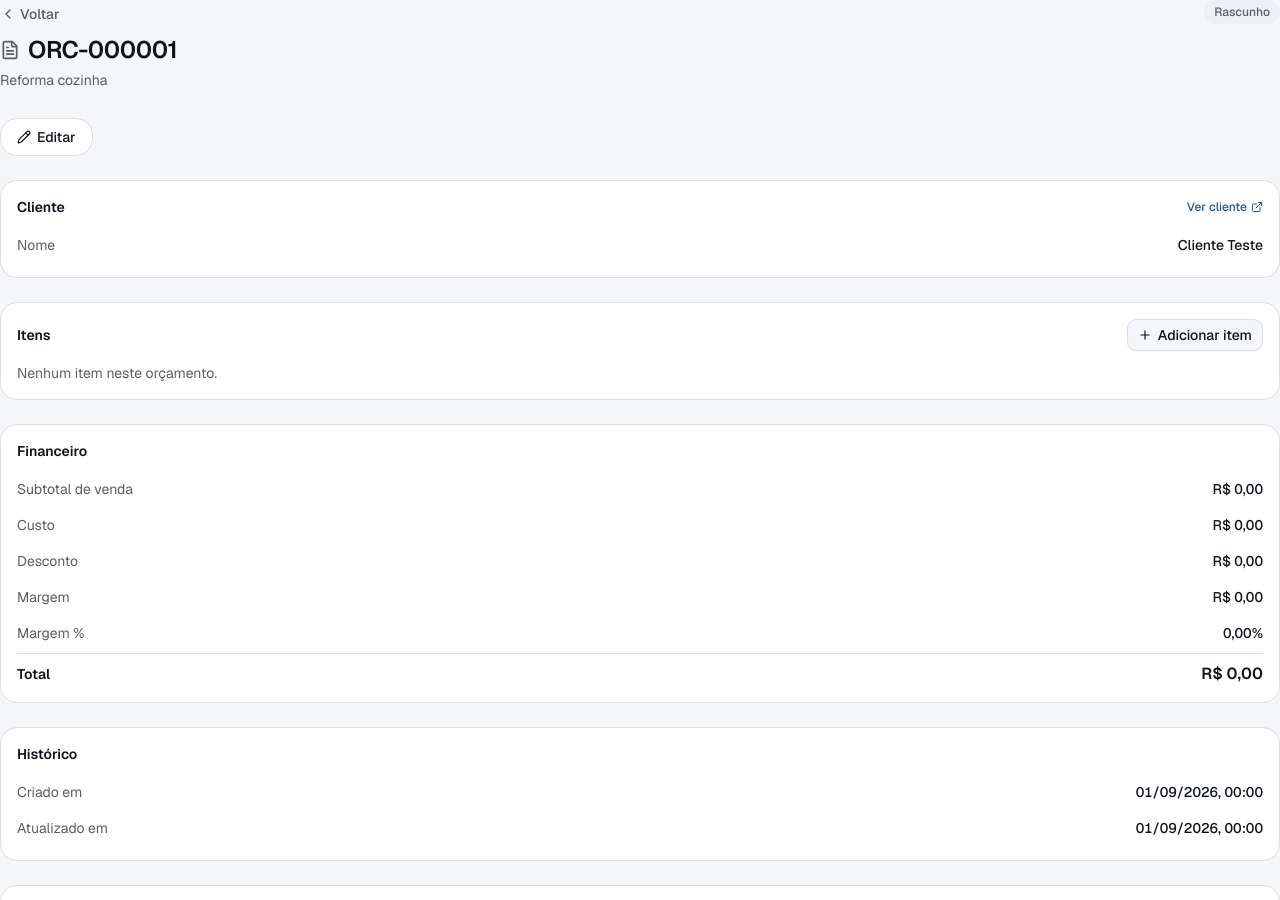
Test case: Budget item management › the add-item choice never offers a Calculadora option
The image size is (1280, 900).
Click the button "Adicionar item": click(1195, 335) [1127,319,1263,351]
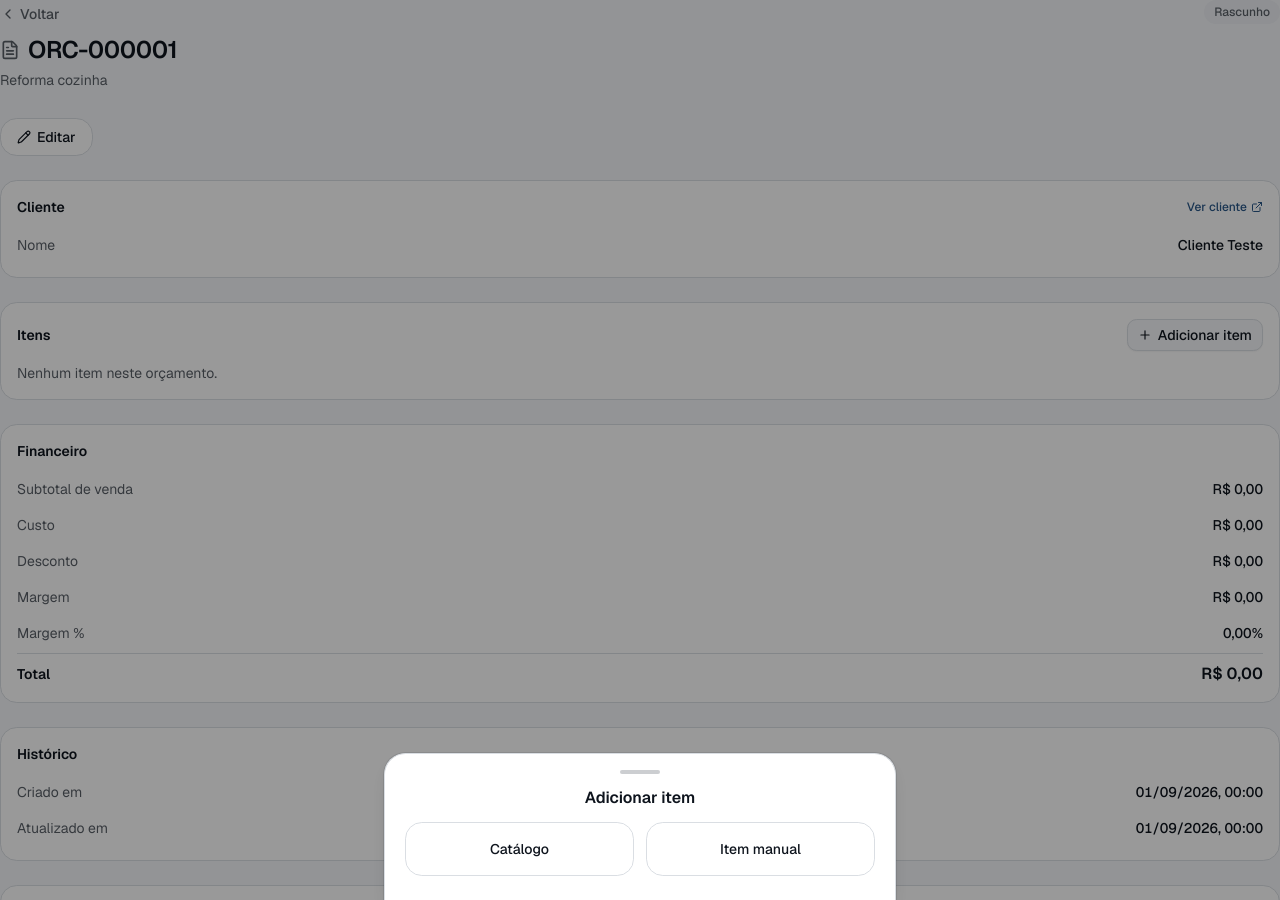
Check: the heading "Adicionar item" is shown, box [585,787,695,808]
Check: the button "Catálogo" is shown, box [405,822,634,876]
Check: the button "Item manual" is shown, box [646,822,875,876]
